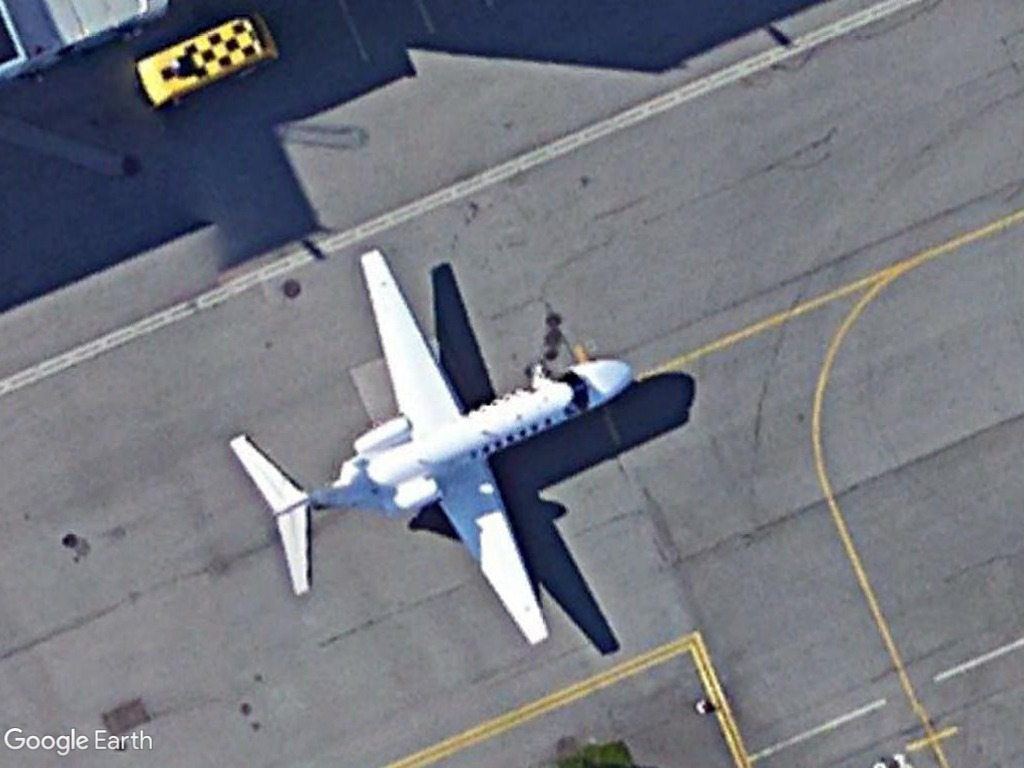chartered: (223, 241, 642, 652)
